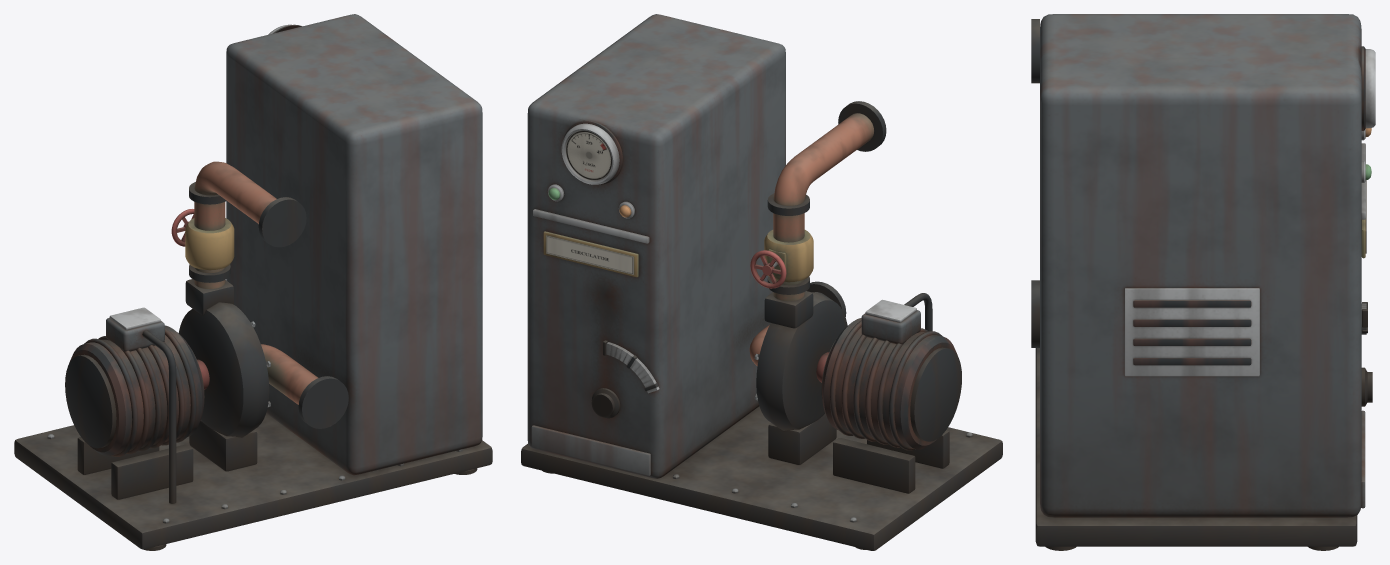
File: SM_Circulator_01.fbx
The picture shows the model from 3 angles, left to right: view 1: azimuth 30°, elevation 25°; view 2: azimuth 150°, elevation 25°; view 3: azimuth 270°, elevation 25°; orthographic projection. The views are drawn at different scales.
Visible parts, largest first — view 1: SM_Circulator_01; view 2: SM_Circulator_01; view 3: SM_Circulator_01.
Part boxes in pixels (<box>): SM_Circulator_01: <box>14,14,492,550</box>; SM_Circulator_01: <box>521,14,1002,550</box>; SM_Circulator_01: <box>1031,14,1375,550</box>.
Size of what is drawn, in the model's own units: 120 by 120 by 81.3.
1 material, 1 textured.
